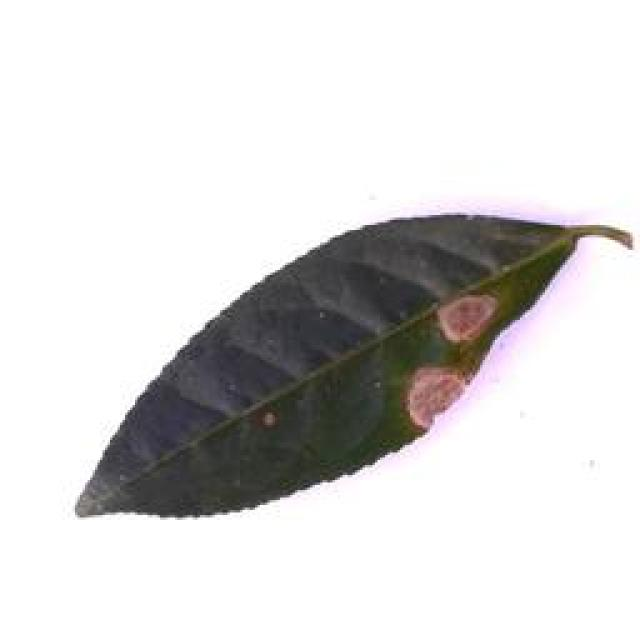Gray Blight: (78, 208, 631, 520)
